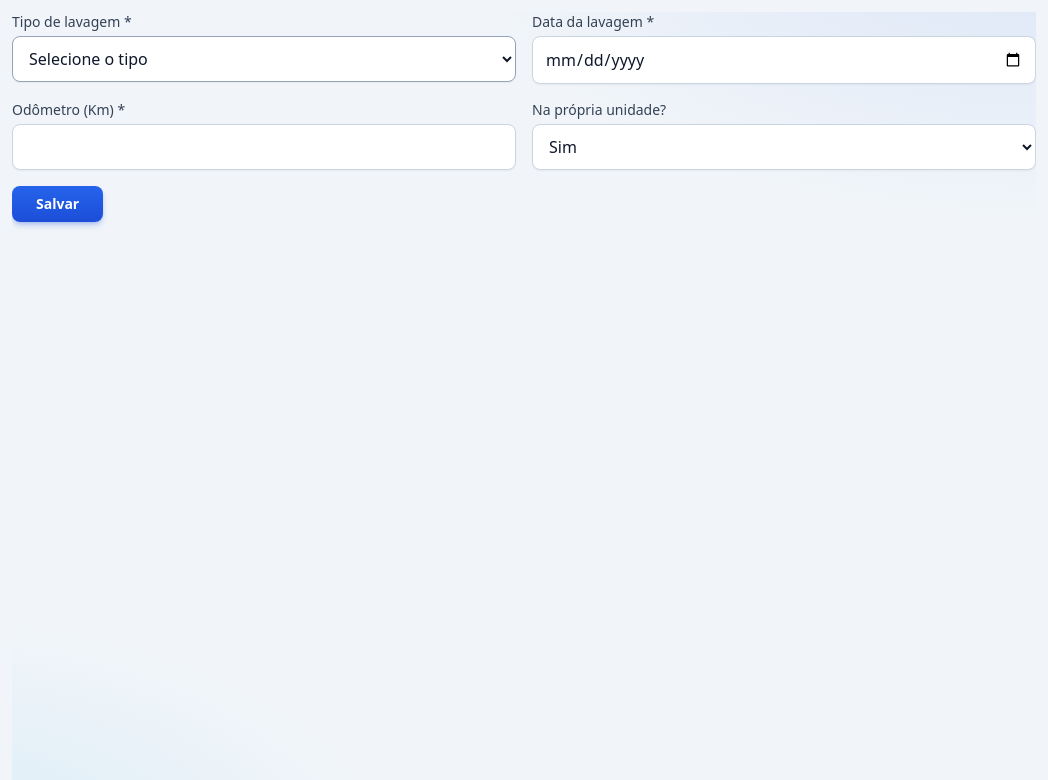
LavagemForm — km no envio (Req. 4.3 / R04) › R04: km negativo bloqueia o envio e sinaliza erro no campo Odômetro
The width and height of the screenshot is (1048, 780).
Select "Completa" in the dropdown labelled "Tipo de lavagem *". click: (264, 59)
box: [12,36,516,82]
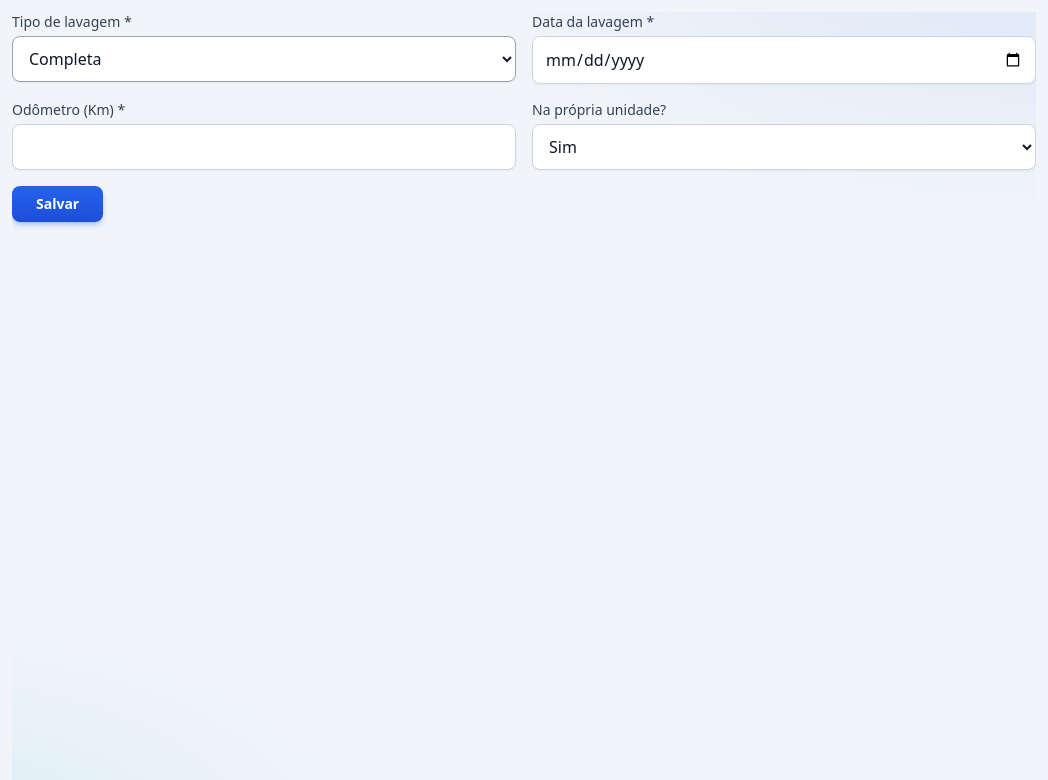
Type "2026-01-15" into the date field labelled "Data da lavagem *". click: (784, 60)
box: [532,36,1036,84]
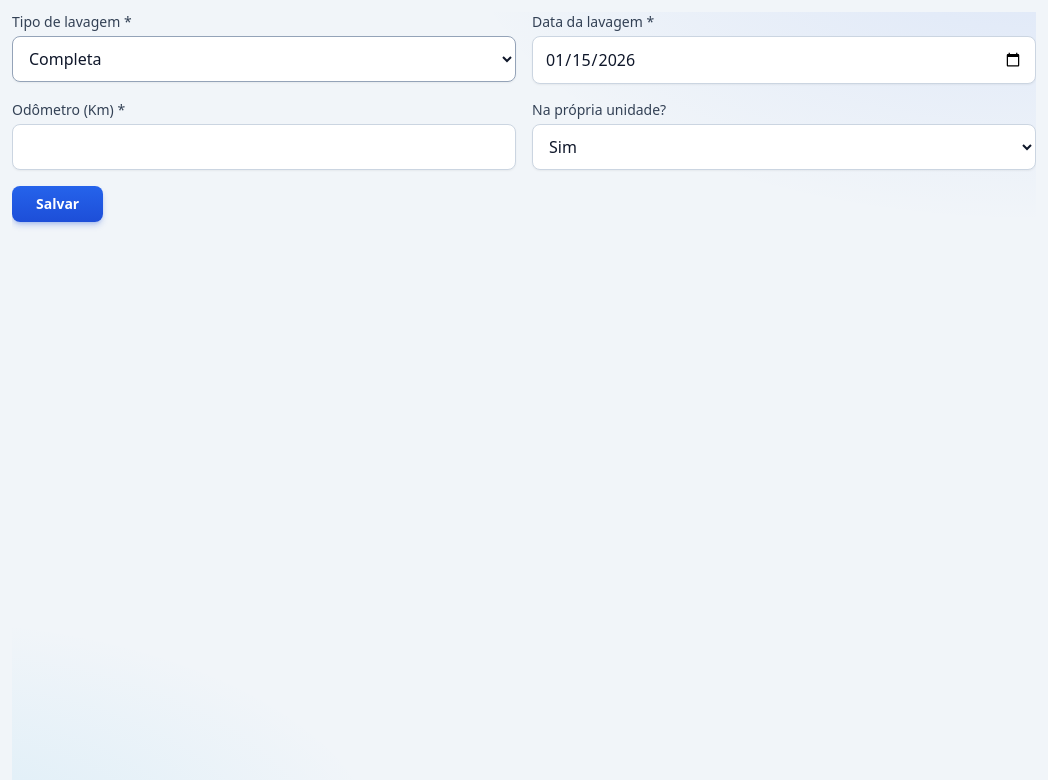
Type "-5" into the number field labelled "Odômetro (Km) *". click: (264, 147)
box: [12,124,516,170]
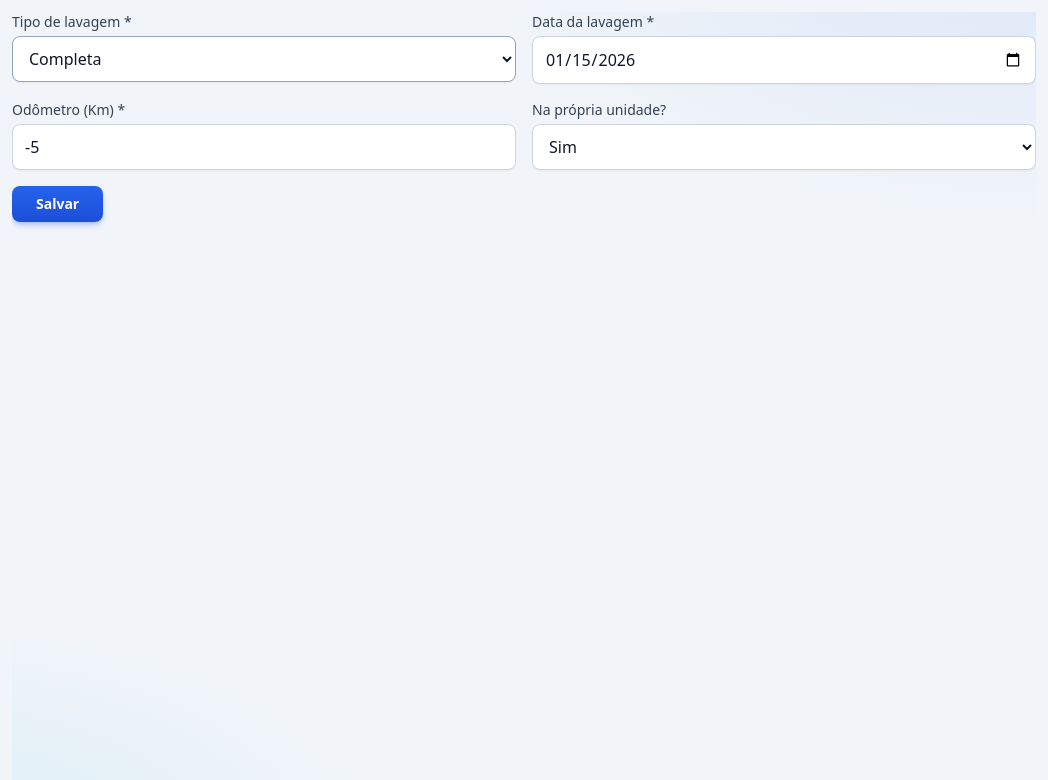
Click the button "Salvar". click: (58, 204)
box: [12,186,103,222]
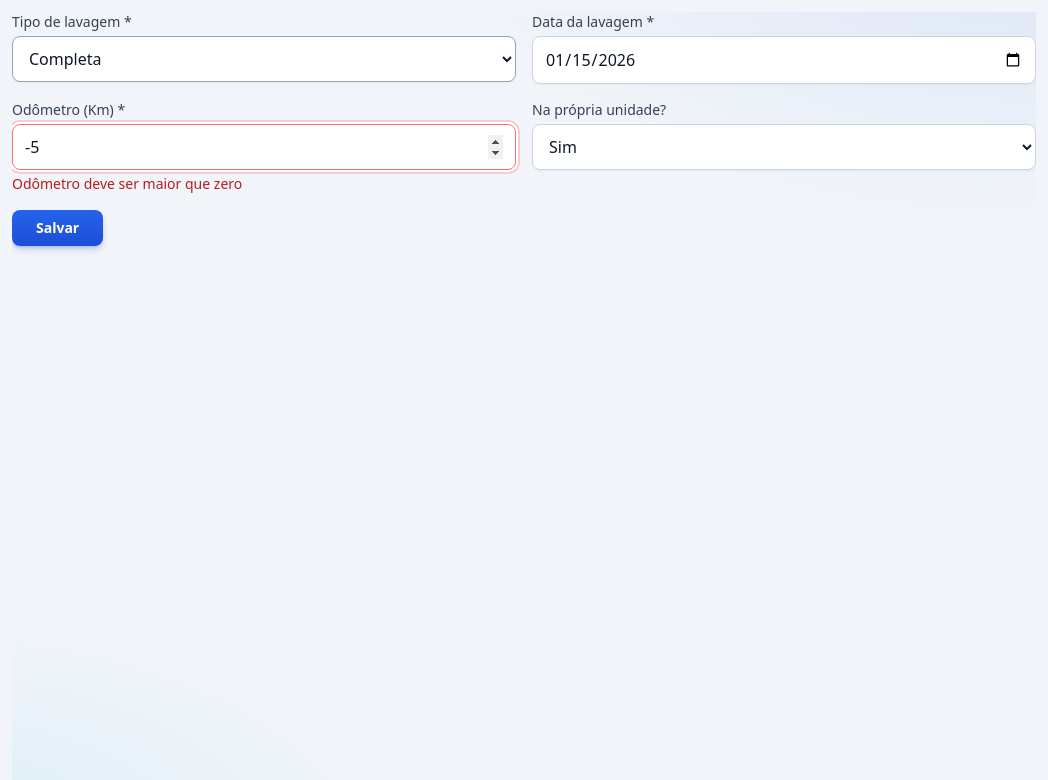
Expected: the text "Odômetro deve ser maior que zero" is shown, [12,174,242,193]
